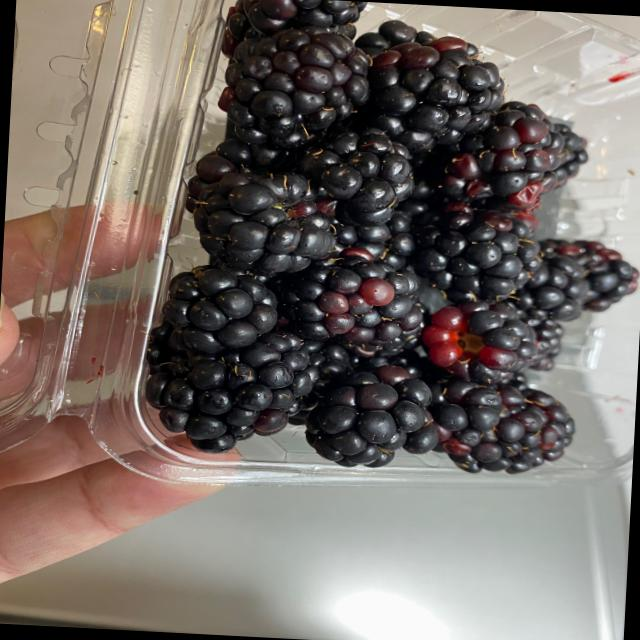blackberries: (138, 0, 637, 467)
